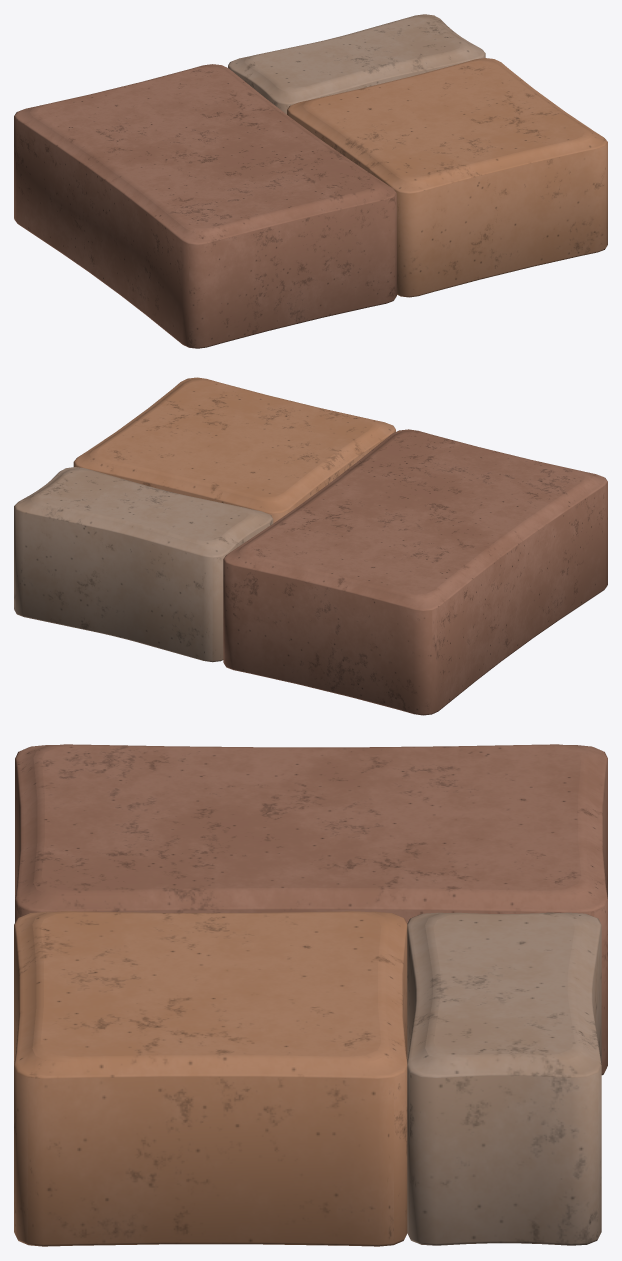
File: packed.glb
The picture shows the model from 3 angles, top to bottom: view 1: azimuth 30°, elevation 25°; view 2: azimuth 150°, elevation 25°; view 3: azimuth 270°, elevation 25°; orthographic projection. The views are drawn at different scales.
Parts seen in each view (by area): view 1: Old World Cobble Regular.001, Old World Cobble Square.001, Old World Cobble Half.001; view 2: Old World Cobble Regular.001, Old World Cobble Half.001, Old World Cobble Square.001; view 3: Old World Cobble Square.001, Old World Cobble Regular.001, Old World Cobble Half.001.
Part boxes in pixels (x1,y1,x2,y2): Old World Cobble Regular.001: (14, 64, 396, 348); Old World Cobble Square.001: (287, 58, 607, 297); Old World Cobble Half.001: (228, 14, 485, 114); Old World Cobble Regular.001: (223, 429, 607, 715); Old World Cobble Half.001: (14, 467, 273, 662); Old World Cobble Square.001: (73, 377, 395, 523); Old World Cobble Square.001: (14, 911, 407, 1246); Old World Cobble Regular.001: (15, 744, 607, 1075); Old World Cobble Half.001: (407, 912, 601, 1245).
Bounding box in the file's own units: 0.239 × 0.0603 × 0.1801.
3 materials, 3 textured.
